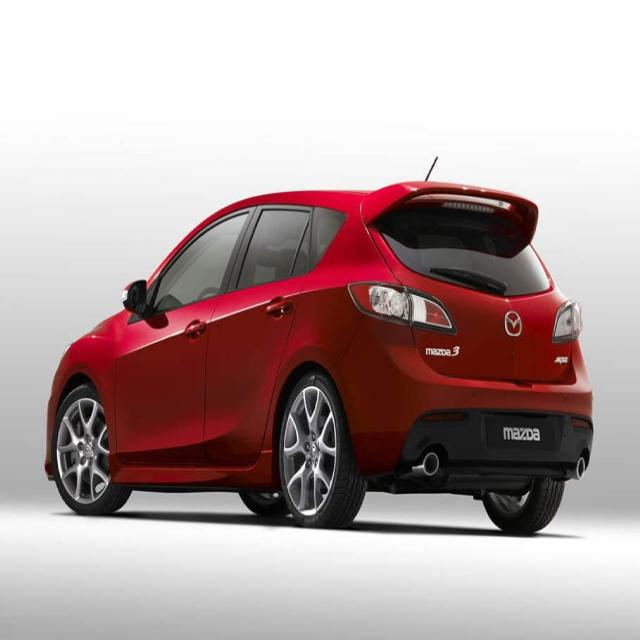back_glass: (370, 200, 555, 302)
back_left_side_light: (342, 278, 457, 334)
back_right_side_light: (548, 296, 584, 346)
door: (200, 199, 314, 476)
front_left_side_door: (106, 197, 260, 475)
front_left_side_light: (120, 274, 150, 316)
rear_bumper: (332, 310, 596, 484)
wheel: (278, 374, 368, 522), (52, 384, 130, 512)
